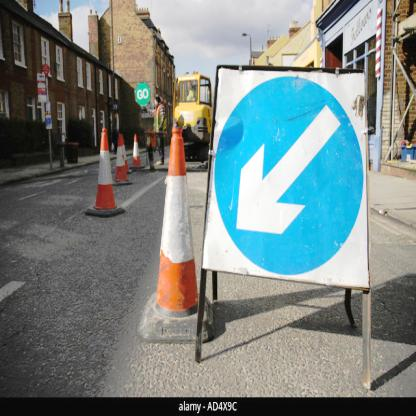Keep left: (216, 68, 367, 283)
